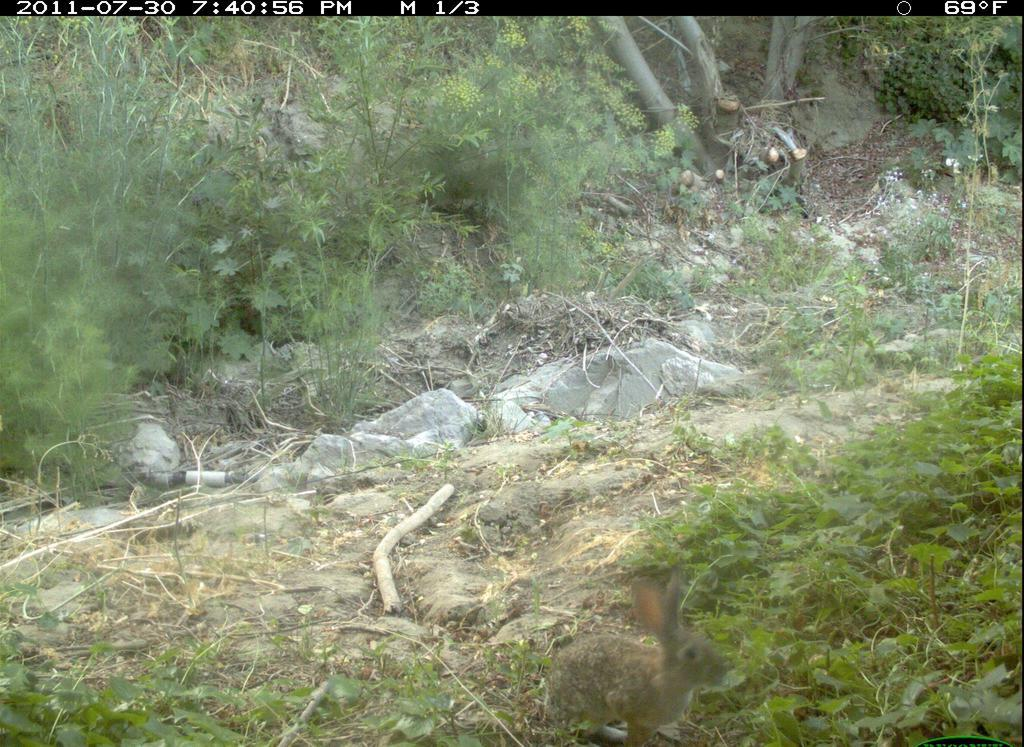rabbit: (532, 559, 756, 747)
